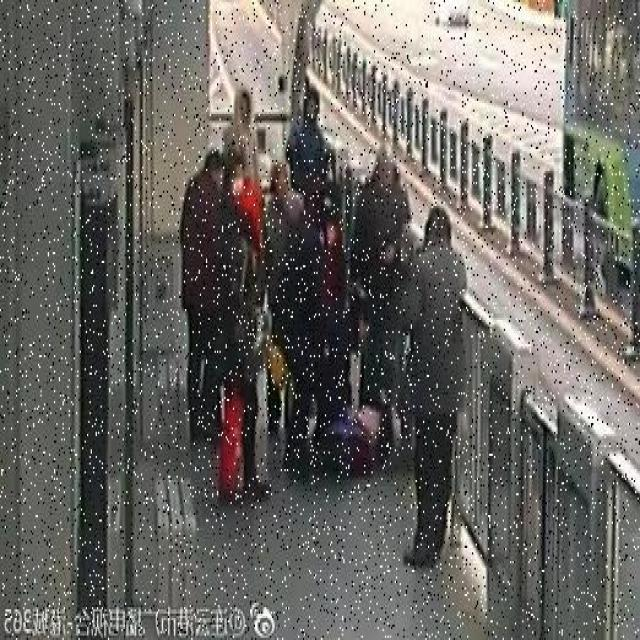fall: (298, 382, 403, 482)
